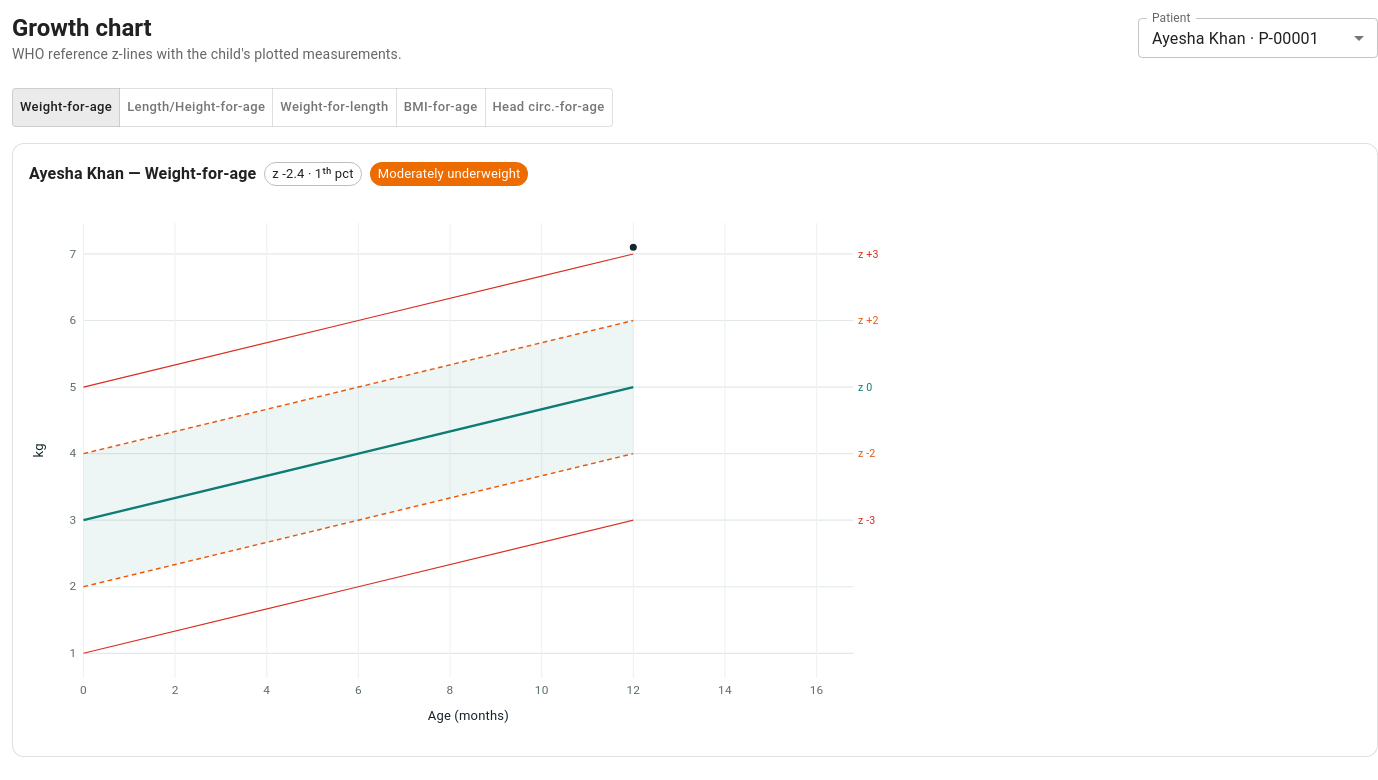
Scenario: the chip colour is the server’s verdict, not a client rule › shows the classification in the server’s own words
Click the button "Length/Height-for-age".
click(196, 107)  # box left=119, top=88, right=273, bottom=127
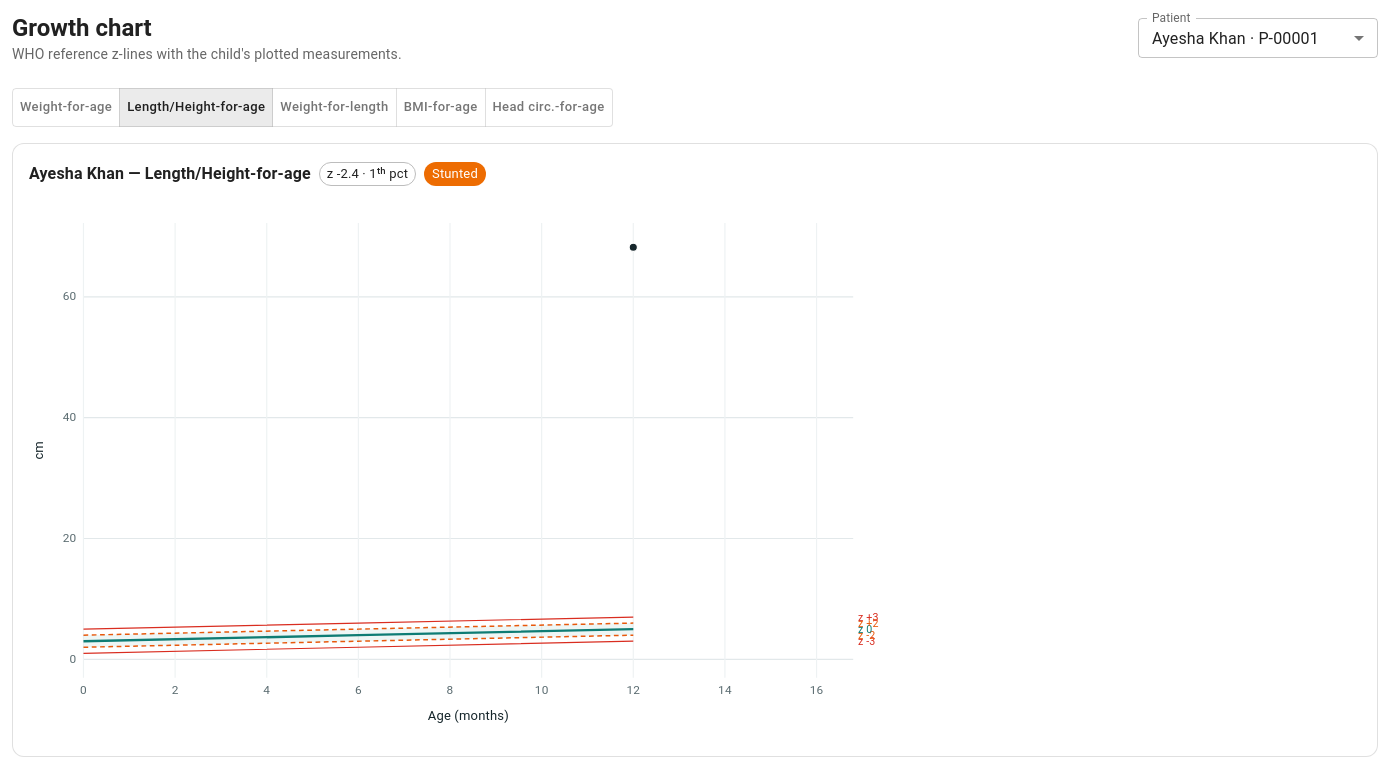
Now the text "Stunted" is shown, box left=432, top=166, right=478, bottom=181
Now the text "Moderately underweight" is gone
